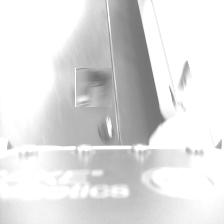Door Handle: (74, 68, 114, 107)
